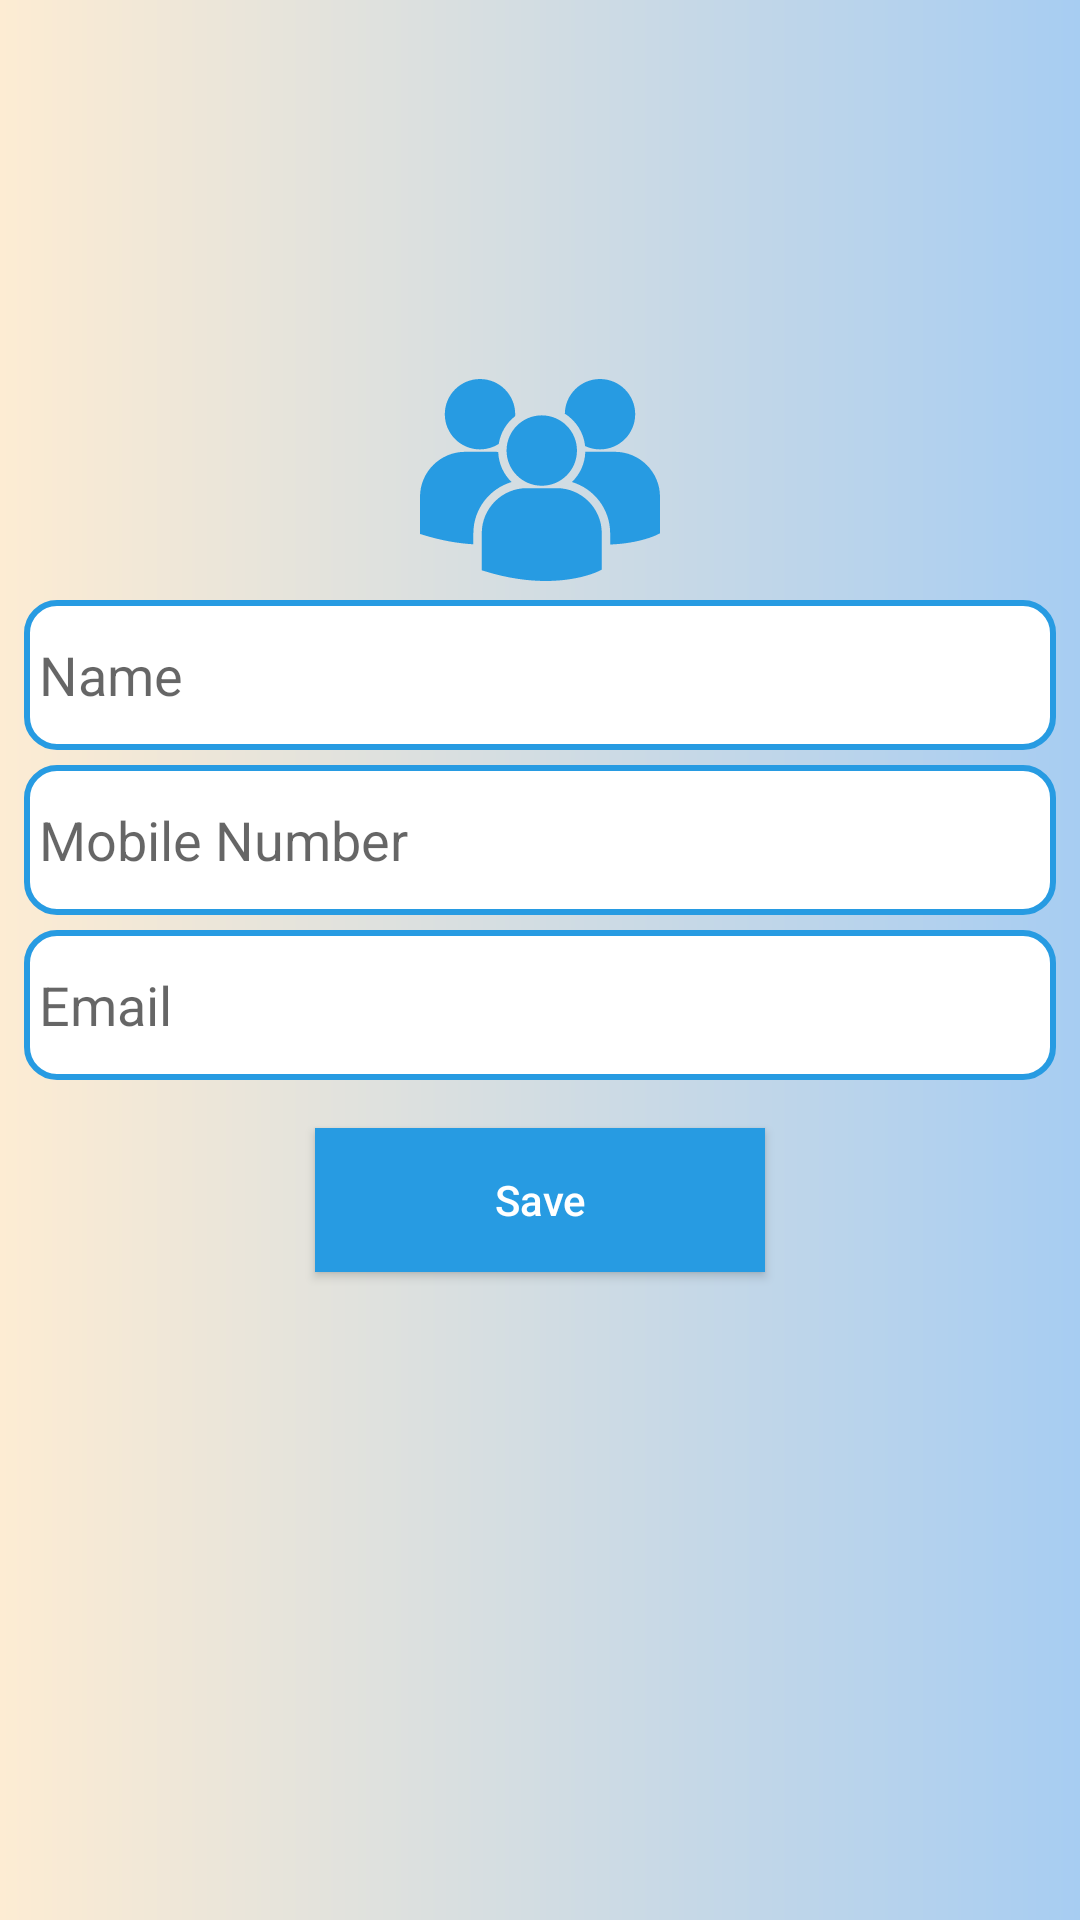

Icons on this 1080px×1920px Android screen, each with the point to tap as (x,y):
multiple users silhouette: (540,480)
